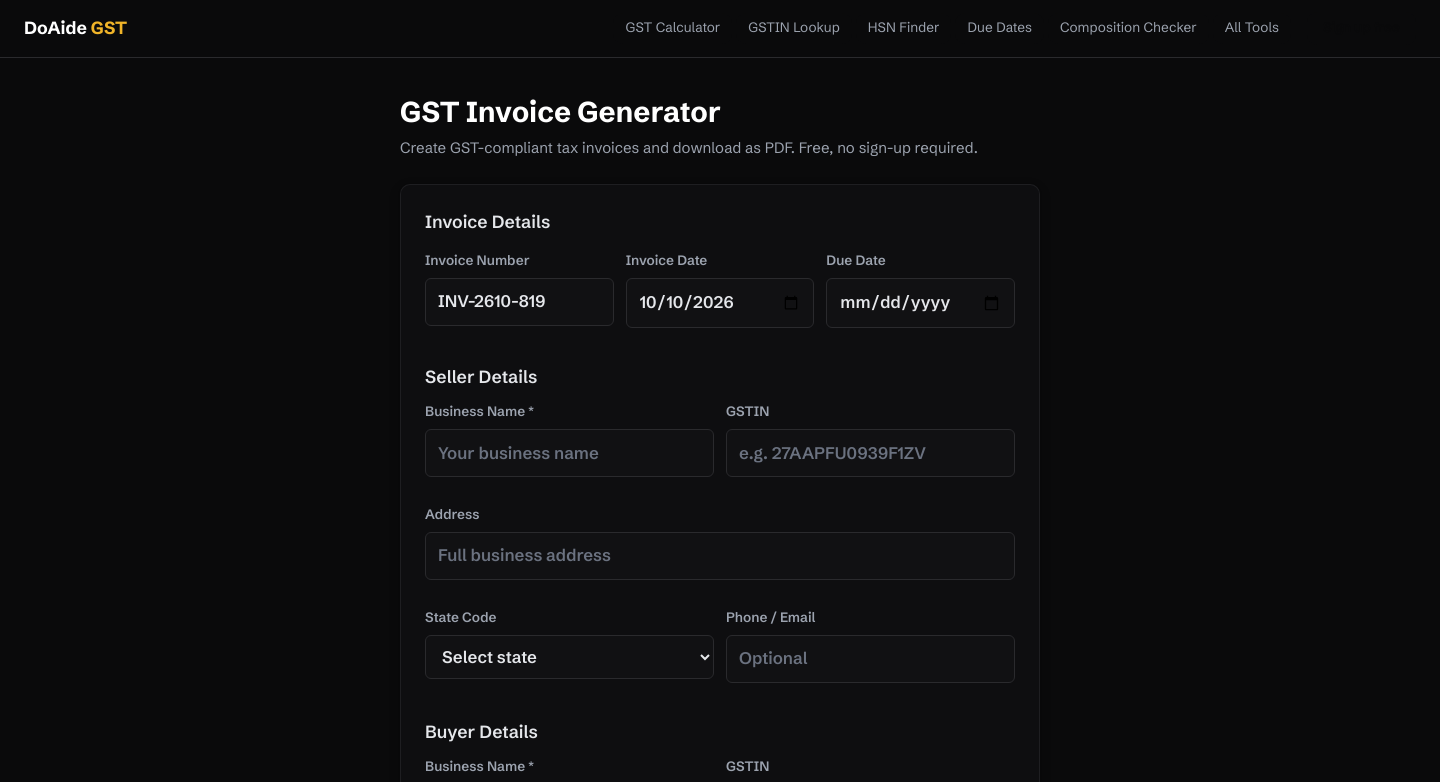
Test case: InvoiceGeneratorPage › shows GSTIN validation feedback
Type "INVALID" into the 1st field with placeholder "e.g. 27AAPFU0939F1ZV".
click(870, 453); type("INVALID")  # box [726,429,1015,477]
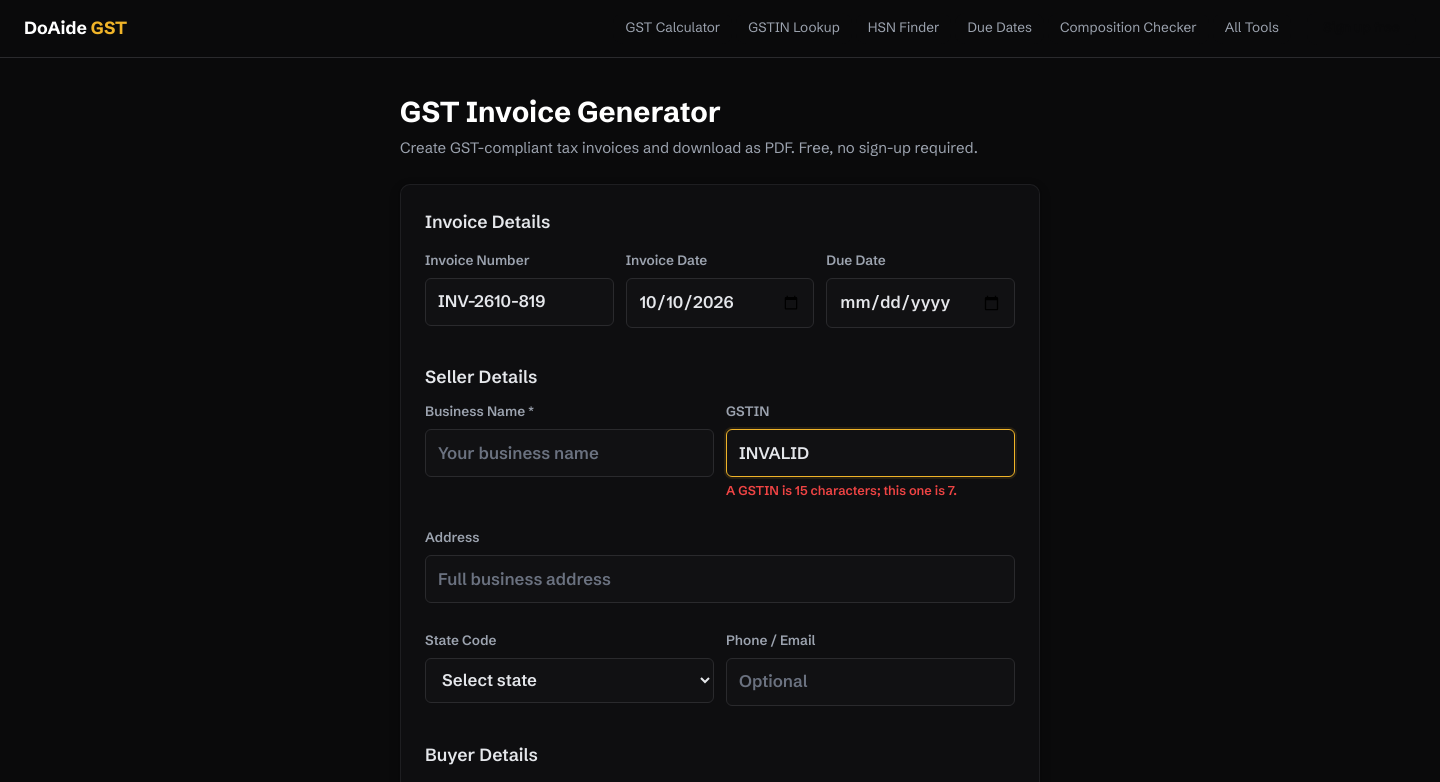
Expected: the text "A GSTIN is 15 characters; this one is 7." is shown, [726,482,957,498]
